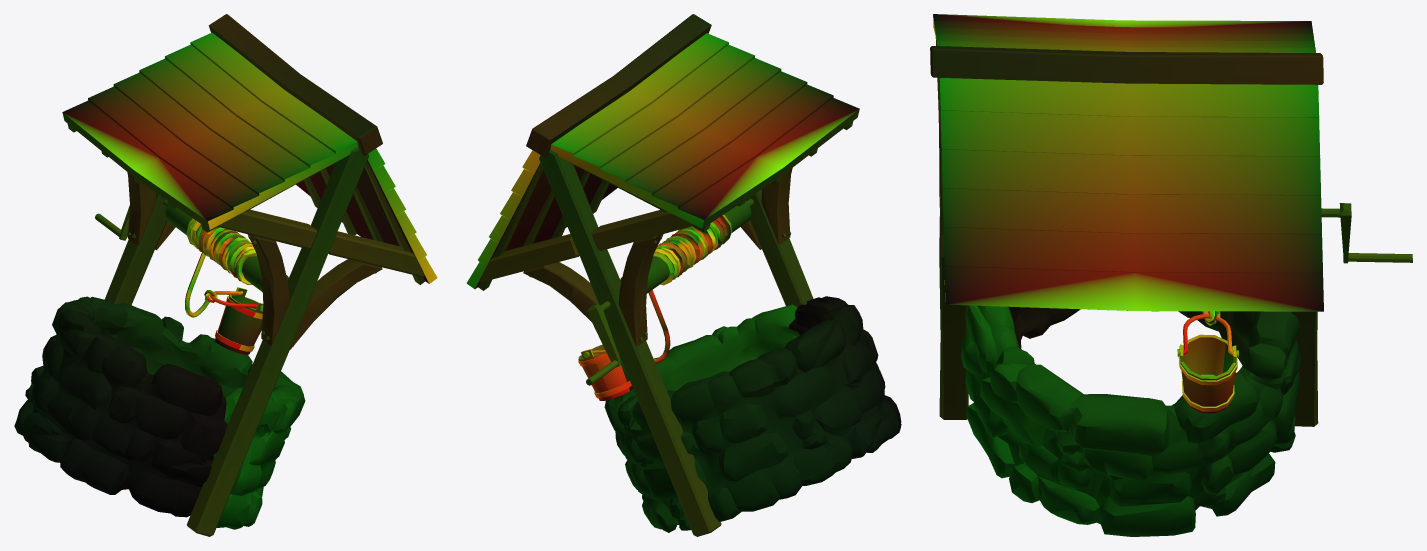
File: well.fbx
3 renders of one model, left to right at view 1: azimuth 30°, elevation 25°; view 2: azimuth 150°, elevation 25°; view 3: azimuth 270°, elevation 25°, orthographic. The views are drawn at different scales.
Visible parts, largest first — view 1: Well_LP; view 2: Well_LP; view 3: Well_LP.
Boxes of the visible parts, x1,y1,x2,y2 form: Well_LP: (14,14,437,536); Well_LP: (466,14,901,536); Well_LP: (930,14,1412,536).
Bounding box in the file's own units: 2.3 × 2.73 × 2.27.
